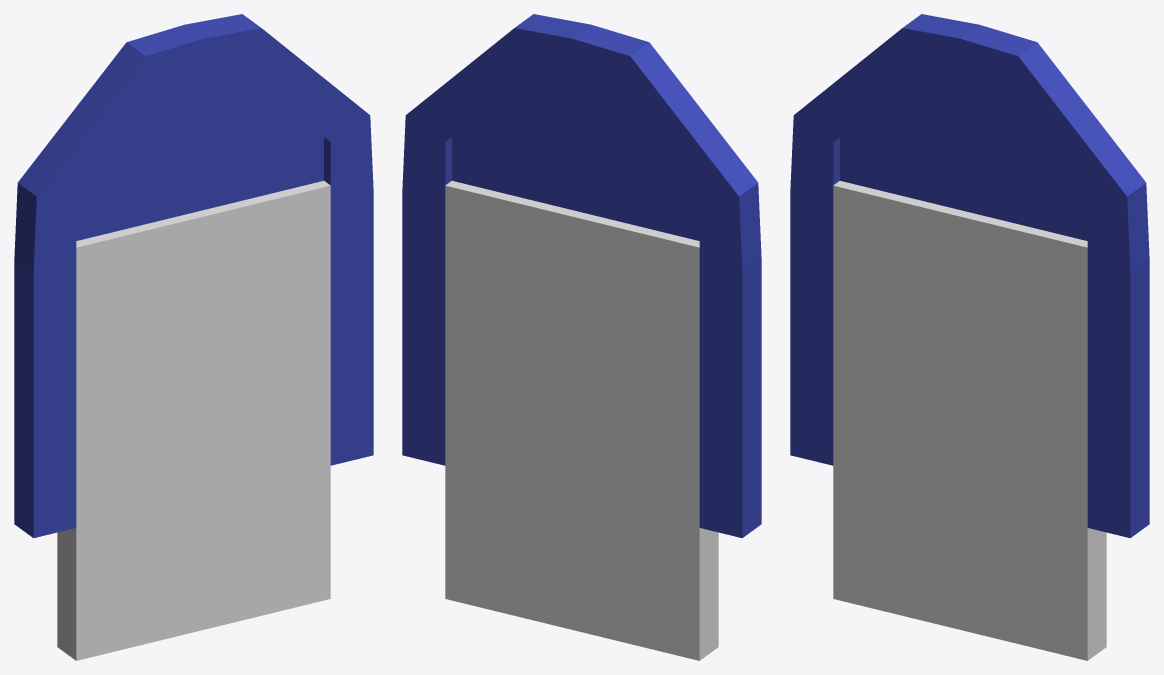
The model's file is doorTestV5.glb.
3 views of the same model, side by side, from view 1: azimuth 30°, elevation 25°; view 2: azimuth 150°, elevation 25°; view 3: azimuth 330°, elevation 25° (orthographic).
Visible parts, largest first — view 1: doorBase, doorAround, door.L, door.R; view 2: doorBase, doorAround, door.L, door.R; view 3: doorBase, doorAround, door.R, door.L.
Part boxes in pixels (left/top/right/bottom): doorBase: left=57, top=181, right=330, bottom=660; doorAround: left=14, top=14, right=373, bottom=538; door.L: left=197, top=73, right=323, bottom=211; door.R: left=76, top=85, right=196, bottom=240; doorBase: left=445, top=181, right=718, bottom=660; doorAround: left=402, top=14, right=761, bottom=538; door.L: left=452, top=73, right=578, bottom=211; door.R: left=579, top=85, right=699, bottom=240; doorBase: left=833, top=181, right=1106, bottom=660; doorAround: left=790, top=14, right=1149, bottom=538; door.R: left=840, top=73, right=966, bottom=211; door.L: left=967, top=85, right=1087, bottom=240.
Bounding box in the file's own units: 2.67 × 4.44 × 0.2605.
